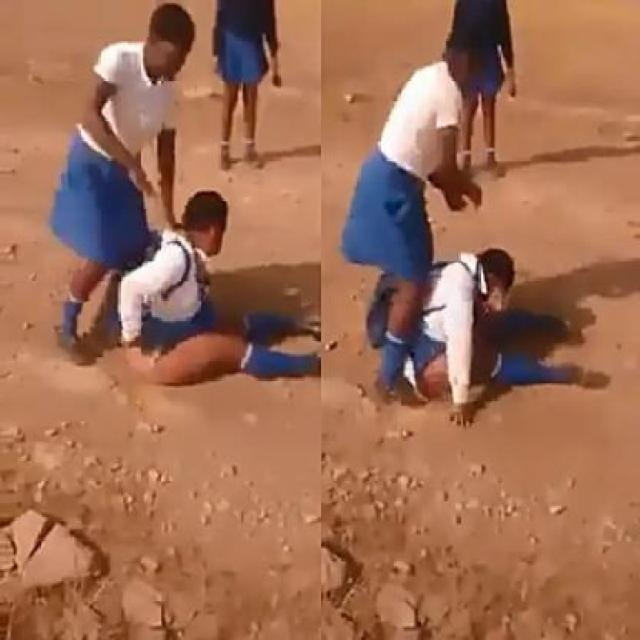fight: (81, 19, 328, 453), (353, 41, 572, 448)
